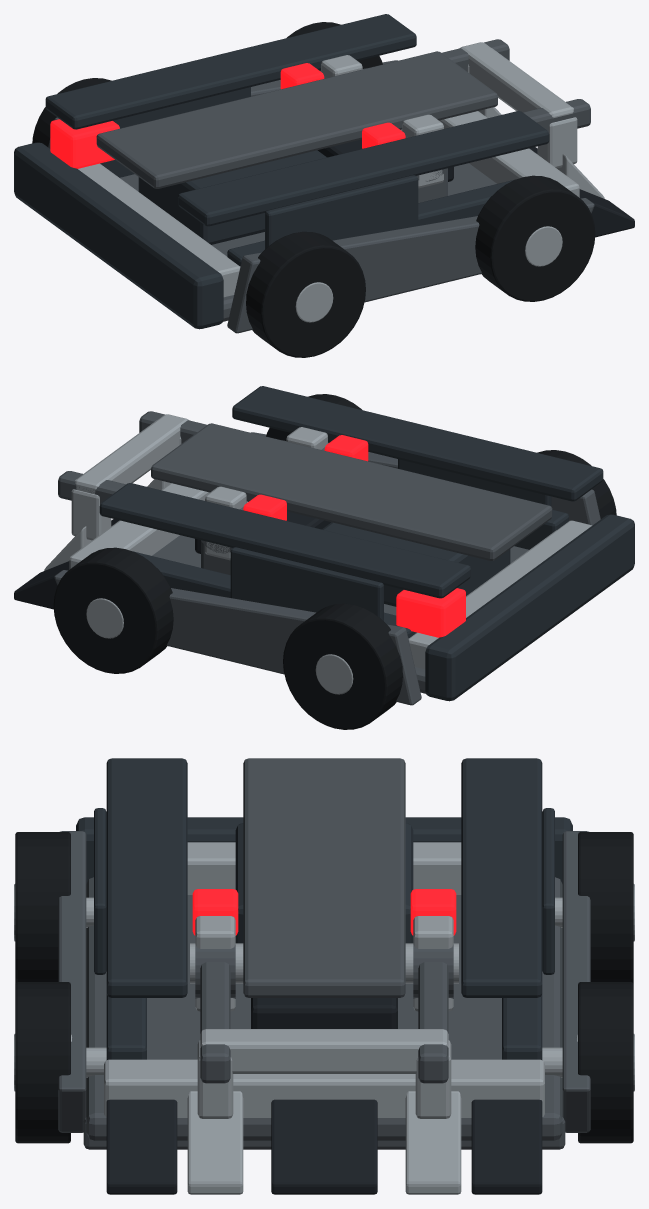
Rendered from TITAN_X_ULTRA_COMPAT_2_82.glb.
The picture shows the model from 3 angles, top to bottom: view 1: azimuth 30°, elevation 25°; view 2: azimuth 150°, elevation 25°; view 3: azimuth 270°, elevation 25°; orthographic projection. The views are drawn at different scales.
Visible parts, largest first — view 1: TXU removable center top cover, TXU rear protective bumper, TXU removable right top cover, TXU removable left top cover, TXU wheel 02, TXU wheel 04, TXU right side guard, TXU right service panel, TXU sealed battery enclosure, TXU rear crossmember, TXU_lift_crossbar, TXU front crossmember (+19 smaller); view 2: TXU removable center top cover, TXU rear protective bumper, TXU removable left top cover, TXU removable right top cover, TXU wheel 01, TXU wheel 03, TXU left side guard, TXU left service panel, TXU_lift_crossbar, TXU rear crossmember, TXU sealed battery enclosure, TXU power isolation module (+21 smaller); view 3: TXU removable center top cover, TXU removable left top cover, TXU removable right top cover, TXU chassis floor, TXU front crossmember, TXU_protective_wedge_C, TXU_lift_crossbar, TXU wheel 01, TXU wheel 02, TXU wheel 03, TXU wheel 04, TXU_protective_wedge_L (+25 smaller).
Part boxes in pixels (<box>): TXU removable center top cover: <box>96,51,497,188</box>; TXU rear protective bumper: <box>14,142,223,329</box>; TXU removable right top cover: <box>178,111,549,226</box>; TXU removable left top cover: <box>45,14,416,129</box>; TXU wheel 02: <box>475,175,595,301</box>; TXU wheel 04: <box>246,231,365,357</box>; TXU right side guard: <box>227,198,594,333</box>; TXU right service panel: <box>265,175,418,249</box>; TXU sealed battery enclosure: <box>138,150,326,244</box>; TXU rear crossmember: <box>78,163,240,297</box>; TXU_lift_crossbar: <box>460,42,573,117</box>; TXU front crossmember: <box>439,111,579,197</box>; TXU removable center top cover: <box>151,423,552,560</box>; TXU rear protective bumper: <box>425,514,634,701</box>; TXU removable left top cover: <box>99,483,470,598</box>; TXU removable right top cover: <box>232,386,603,501</box>; TXU wheel 01: <box>53,547,173,673</box>; TXU wheel 03: <box>283,603,402,729</box>; TXU left side guard: <box>54,570,421,705</box>; TXU left service panel: <box>230,547,383,621</box>; TXU_lift_crossbar: <box>75,414,188,494</box>; TXU rear crossmember: <box>408,520,592,669</box>; TXU sealed battery enclosure: <box>322,522,510,606</box>; TXU power isolation module: <box>396,588,465,637</box>; TXU removable center top cover: <box>243,758,405,997</box>; TXU removable left top cover: <box>461,758,542,997</box>; TXU removable right top cover: <box>106,758,187,997</box>; TXU chassis floor: <box>86,877,562,1140</box>; TXU front crossmember: <box>104,1059,544,1117</box>; TXU_protective_wedge_C: <box>271,1099,377,1194</box>; TXU_lift_crossbar: <box>200,1029,448,1073</box>; TXU wheel 01: <box>578,982,633,1143</box>; TXU wheel 02: <box>15,982,70,1143</box>; TXU wheel 03: <box>578,832,633,983</box>; TXU wheel 04: <box>15,832,70,983</box>; TXU_protective_wedge_L: <box>471,1099,542,1194</box>.
Bounding box in the file's own units: 0.275 × 0.08 × 0.245.
